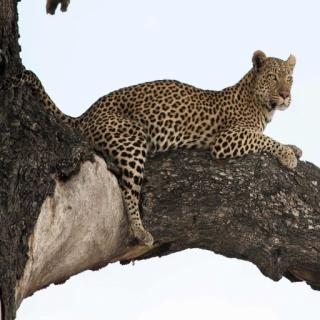Leopard: (55, 39, 302, 216)
